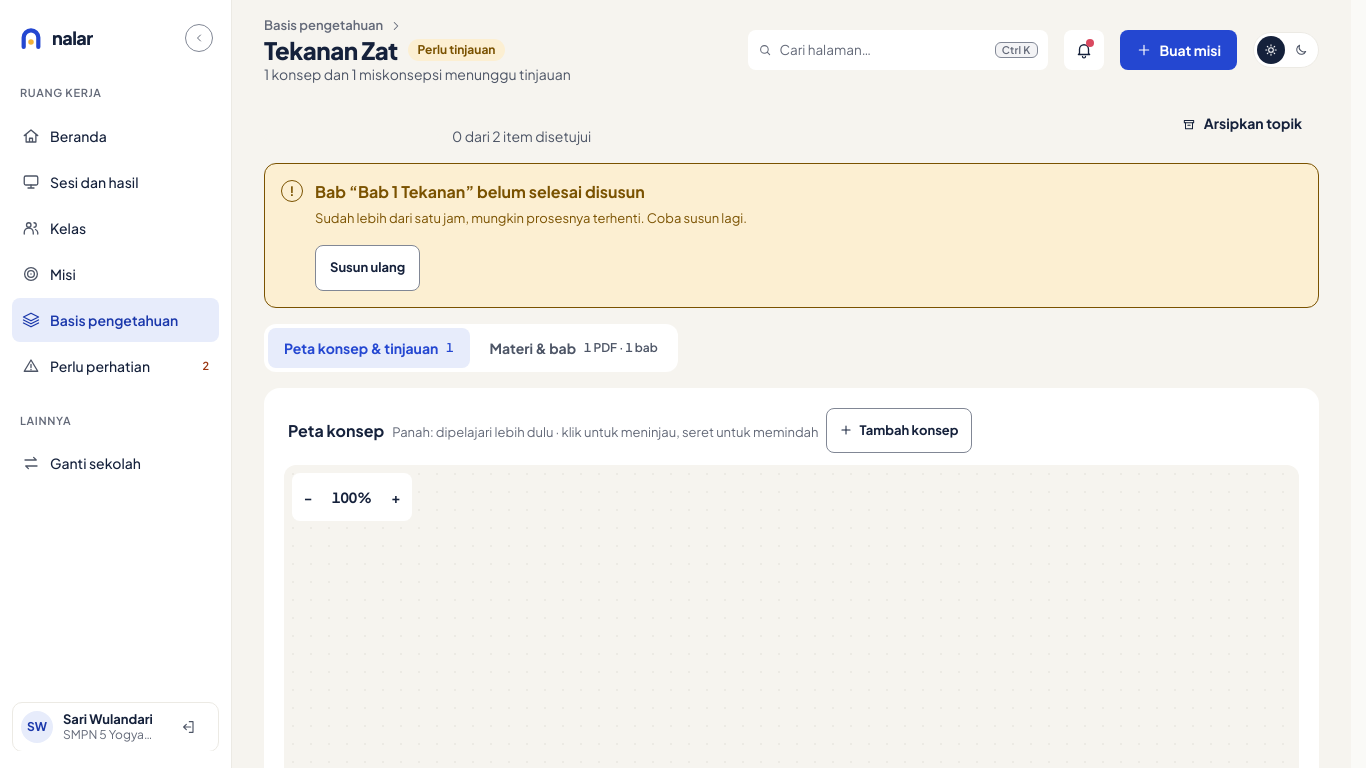
Scenario: signed-in teacher pages › while a chapter is built › stops waiting after an hour and offers a retry
Check: the text "Bab “Bab 1 Tekanan” belum selesai disusun" is shown, box [315,181,645,202]
Click the tab "Materi & bab 1 PDF · 1 bab" at (574, 348), box [474,328,674,368]
(page scrolled)
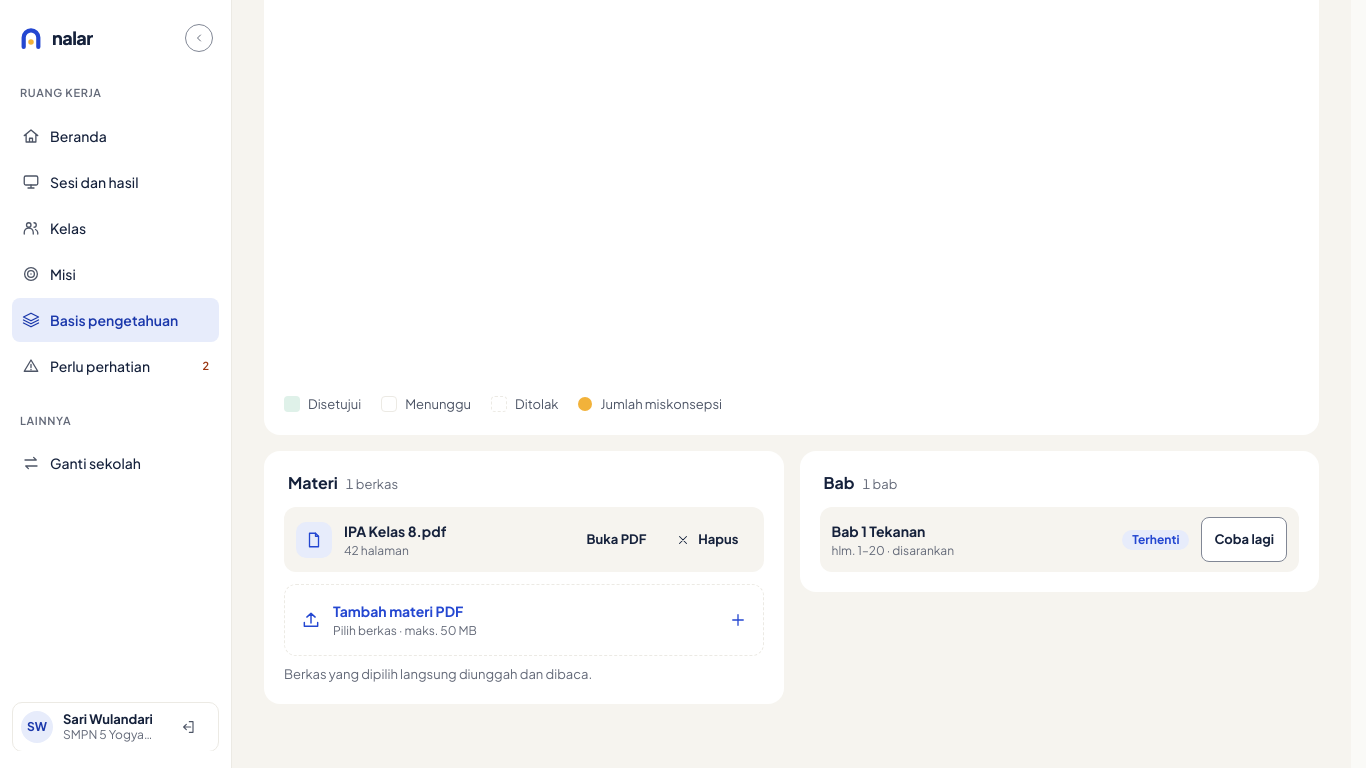
Check: the button with aria-label "Coba lagi Bab 1 Tekanan" is shown, box [1201,517,1287,562]
